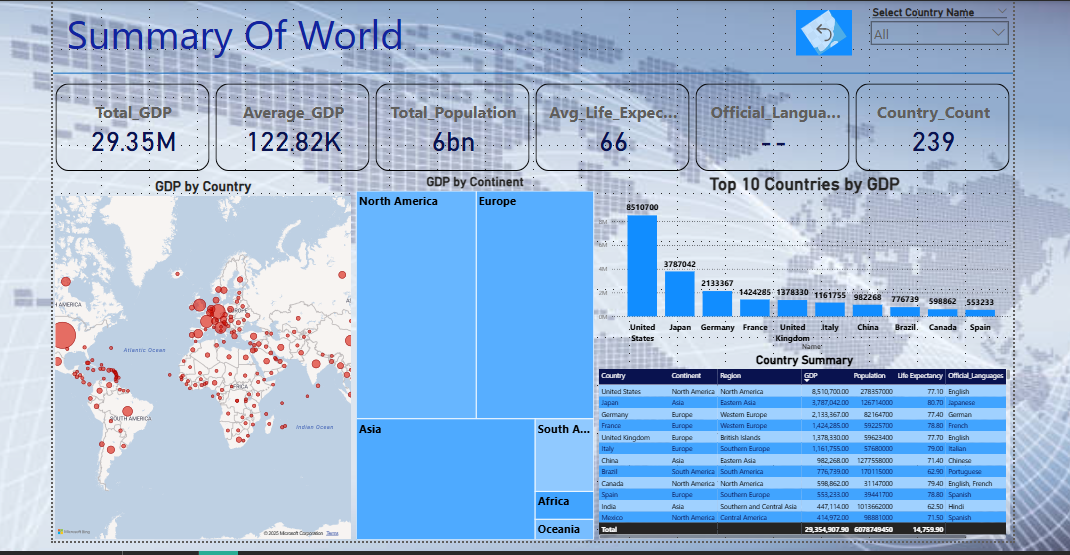

The dashboard page shown, as its layout file describes it:
{"tool":"powerbi","page":{"name":"Page 1","canvas":[1920,1080],"ordinal":0},"visuals":[{"type":"cardVisual","fields":{"Data":["Measure.Total_GDP","Measure.Average_GDP","Measure.Total_Population","Measure.Avg_Life_Expectancy","Measure.Official_Languages","Measure.Country_Count"]},"box":[0,160,1920,185.1],"z":0},{"type":"shape","box":[0,61.7,1920,164.6],"z":1000},{"type":"textbox","box":[0,4,1256,130],"z":2000},{"type":"map","title":"GDP by Country","fields":{"Category":["Country.Name"],"Size":["Measure.Total_GDP"]},"box":[0,354.3,601.1,726.9],"z":3000},{"type":"treemap","title":"GDP by Continent","fields":{"Group":["Country.Continent"],"Values":["Sum(Country.GNP)"]},"box":[601.1,345.1,484.6,736],"z":4000},{"type":"columnChart","title":"Top 10 Countries by GDP","fields":{"Category":["Country.Name"],"Y":["Measure.Total_GDP"]},"box":[1085.7,345.1,834.3,358.9],"z":5000},{"type":"slicer","fields":{"Values":["Country.Name"]},"box":[1625.1,4.6,294.9,130.3],"z":6000},{"type":"actionButton","box":[1486,17,112,91.4],"z":7000},{"type":"tableEx","title":"Country Summary","fields":{"Values":["Country.Name","Country.Continent","Country.Region","Measure.Total_GDP","Measure.Total_Population","Sum(Country.LifeExpectancy)","Measure.Official_Languages"]},"box":[1085.7,704,834.3,377.1],"z":7001}]}

Visuals, with their boxes on the page's 1920x1080 design canvas (x1, y1, x2, y2). These are canvas units, not pixel positions in the 1070x555 screenshot, which may show the page scaled, cropped or inside an application window:
cardVisual - Measure.Total_GDP x Measure.Average_GDP: bbox(0, 160, 1920, 345)
shape: bbox(0, 62, 1920, 226)
textbox: bbox(0, 4, 1256, 134)
"GDP by Country" map: bbox(0, 354, 601, 1081)
"GDP by Continent" treemap: bbox(601, 345, 1086, 1081)
"Top 10 Countries by GDP" columnChart: bbox(1086, 345, 1920, 704)
slicer - Country.Name: bbox(1625, 5, 1920, 135)
actionButton: bbox(1486, 17, 1598, 108)
"Country Summary" tableEx: bbox(1086, 704, 1920, 1081)
